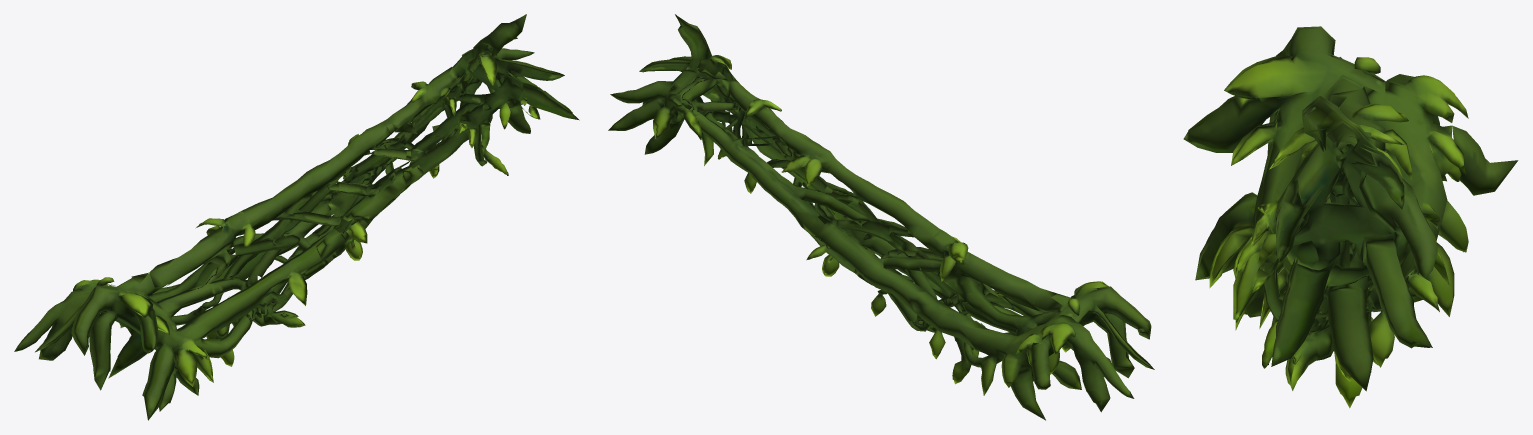
Rendered from tsuta.glb.
3 views of the same model, side by side, from view 1: azimuth 30°, elevation 25°; view 2: azimuth 150°, elevation 25°; view 3: azimuth 270°, elevation 25° (orthographic). The views are drawn at different scales.
Visible parts, largest first — view 1: tripo_node_438e564e-7d5b-49b1-bd81-bf67610d9857; view 2: tripo_node_438e564e-7d5b-49b1-bd81-bf67610d9857; view 3: tripo_node_438e564e-7d5b-49b1-bd81-bf67610d9857.
Boxes of the visible parts, <box> form: tripo_node_438e564e-7d5b-49b1-bd81-bf67610d9857: <box>14,14,579,420</box>; tripo_node_438e564e-7d5b-49b1-bd81-bf67610d9857: <box>608,14,1154,420</box>; tripo_node_438e564e-7d5b-49b1-bd81-bf67610d9857: <box>1183,26,1518,408</box>.
Bounding box in the file's own units: 0.9923 × 0.5263 × 0.2738.
Materials: 1 (1 with a texture image).
